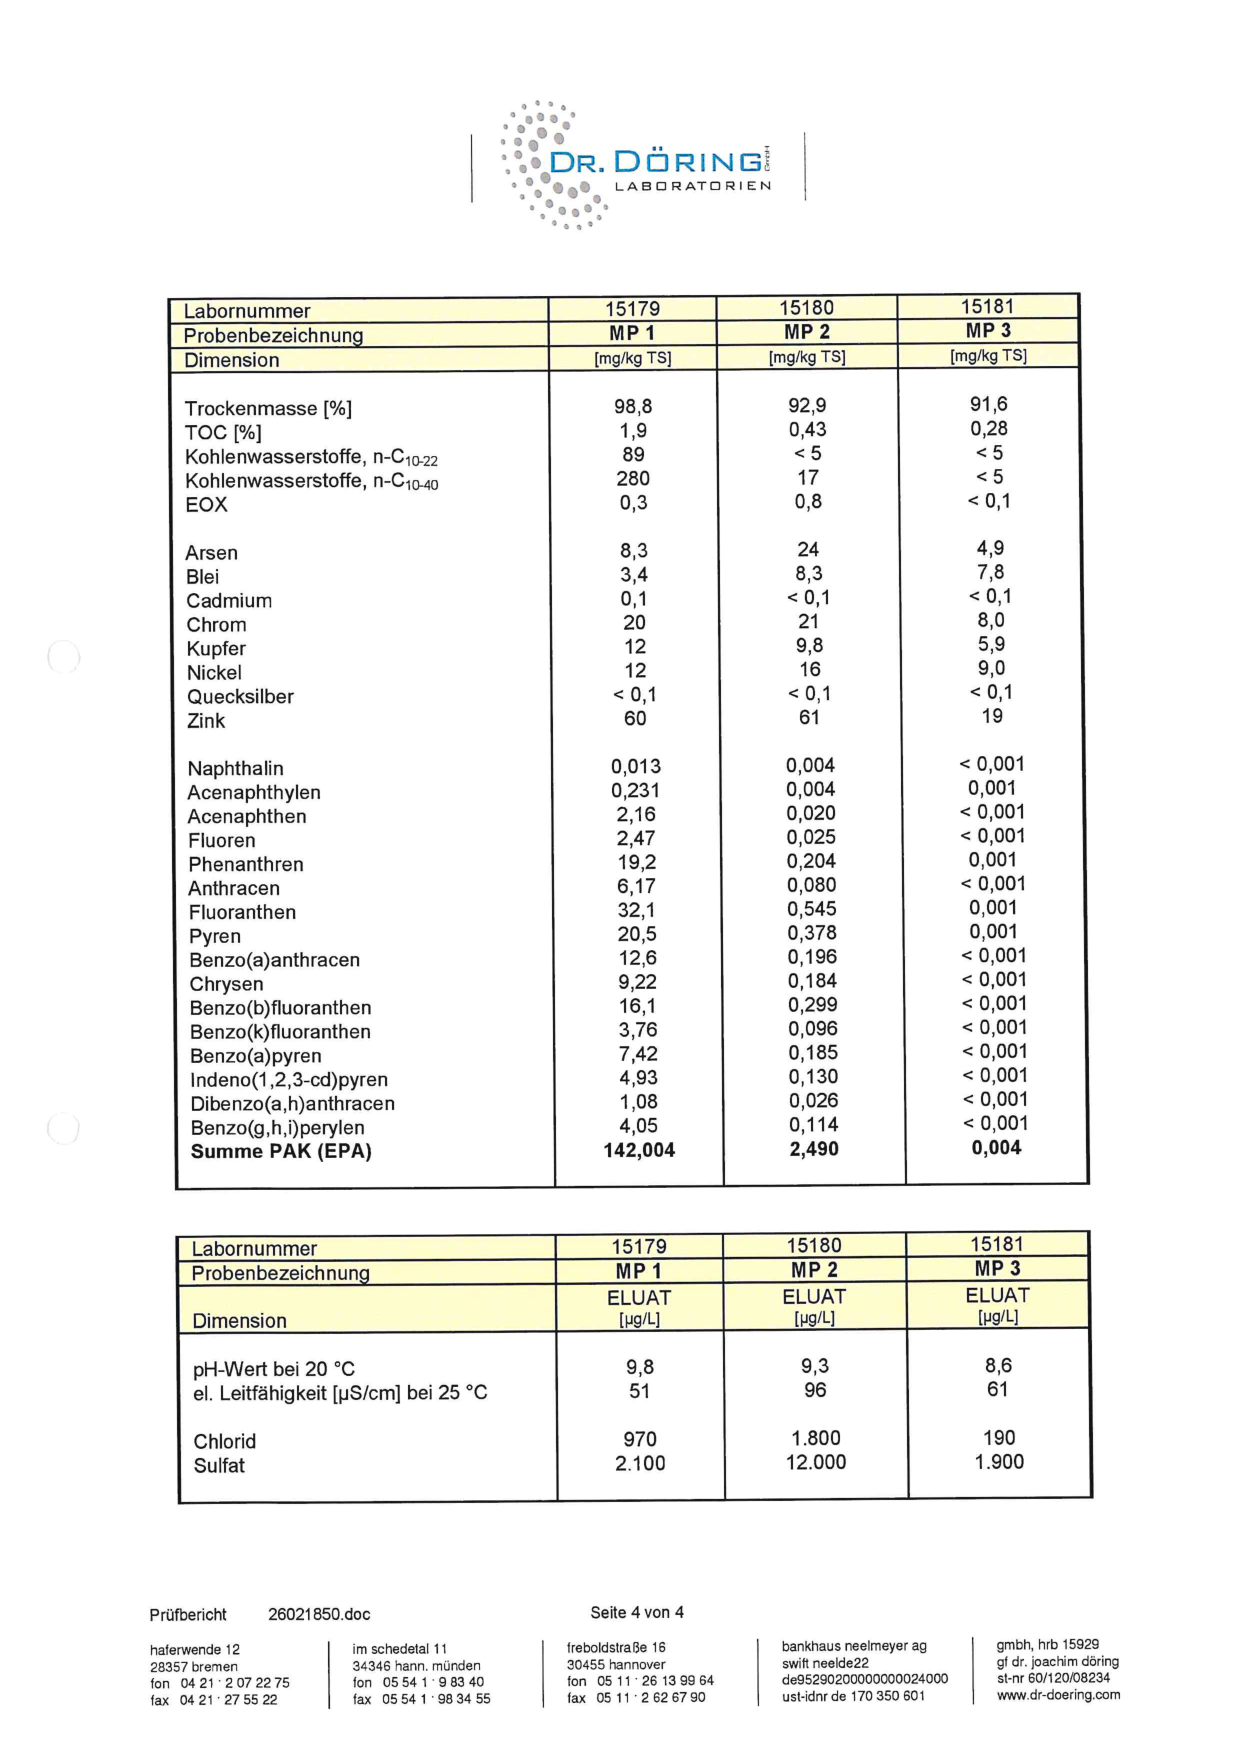table: (156, 278, 1108, 1202), (165, 1219, 1110, 1516)
